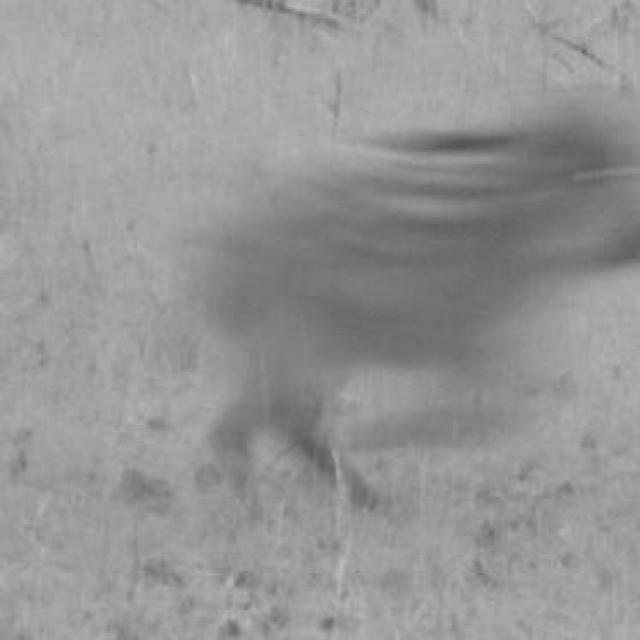pig: (182, 96, 640, 480)
